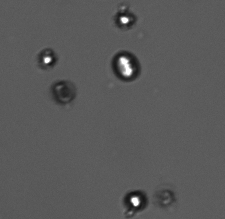Dead Cell: (53, 81, 76, 104), (157, 189, 175, 207)
Living Cell: (113, 51, 138, 81), (125, 191, 146, 211), (114, 11, 135, 29), (38, 50, 56, 67)
